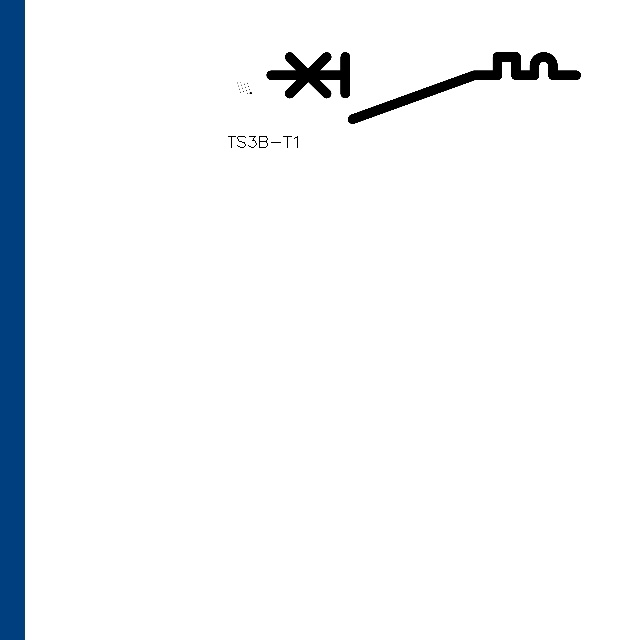interruptor_termomagnetico: (263, 49, 583, 127)
